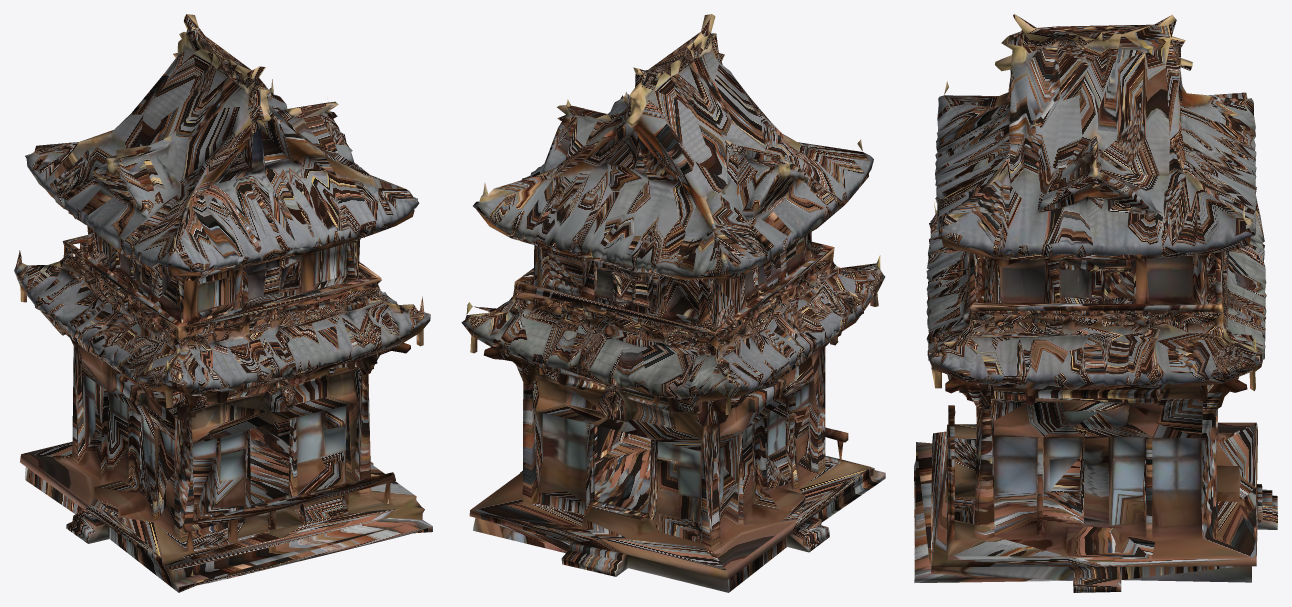
File: japanese_building.glb
The picture shows the model from 3 angles, left to right: view 1: azimuth 30°, elevation 25°; view 2: azimuth 150°, elevation 25°; view 3: azimuth 270°, elevation 25°; orthographic projection. The views are drawn at different scales.
Visible parts, largest first — view 1: japanese_building; view 2: japanese_building; view 3: japanese_building.
Part boxes in pixels (<box>): japanese_building: <box>14,14,432,592</box>; japanese_building: <box>461,14,885,592</box>; japanese_building: <box>914,14,1277,592</box>.
Bounding box in the file's own units: 1.31 × 2 × 1.31.
1 material, 1 textured.
